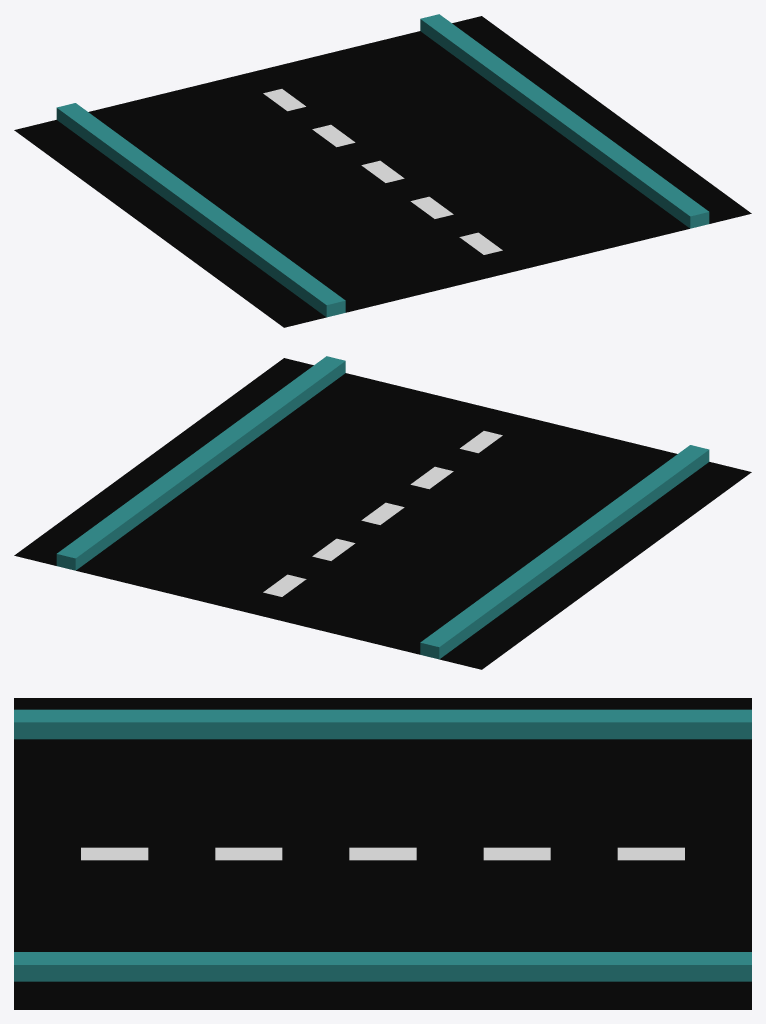
The model's file is Straight_road.fbx.
3 views of the same model, one above another, from view 1: azimuth 30°, elevation 25°; view 2: azimuth 150°, elevation 25°; view 3: azimuth 270°, elevation 25° (orthographic). The views are drawn at different scales.
Visible parts, largest first — view 1: Plane; view 2: Plane; view 3: Plane.
Part boxes in pixels (x1,y1,x2,y2): Plane: [14, 14, 751, 327]; Plane: [14, 356, 751, 669]; Plane: [14, 698, 751, 1009].
Bounding box in the file's own units: 4000 × 100 × 4000.
